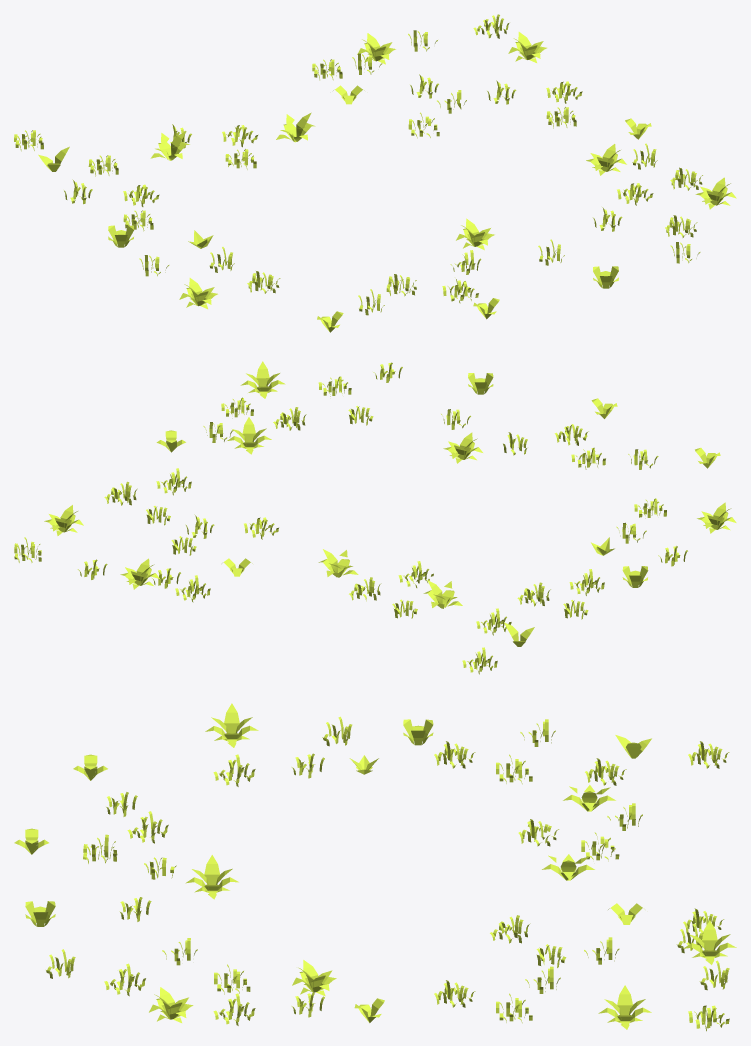
The model's file is Tile_House_1_Grass.fbx.
3 views of the same model, one above another, from view 1: azimuth 30°, elevation 25°; view 2: azimuth 150°, elevation 25°; view 3: azimuth 270°, elevation 25° (orthographic). The views are drawn at different scales.
Parts seen in each view (by area): view 1: plant_bushDetailed.001; view 2: plant_bushDetailed.001; view 3: plant_bushDetailed.001.
Part boxes in pixels (x1,y1,x2,y2): plant_bushDetailed.001: (14,14,736,332); plant_bushDetailed.001: (14,361,736,674); plant_bushDetailed.001: (14,703,736,1031).
Bounding box in the file's own units: 248 × 12.36 × 249.
